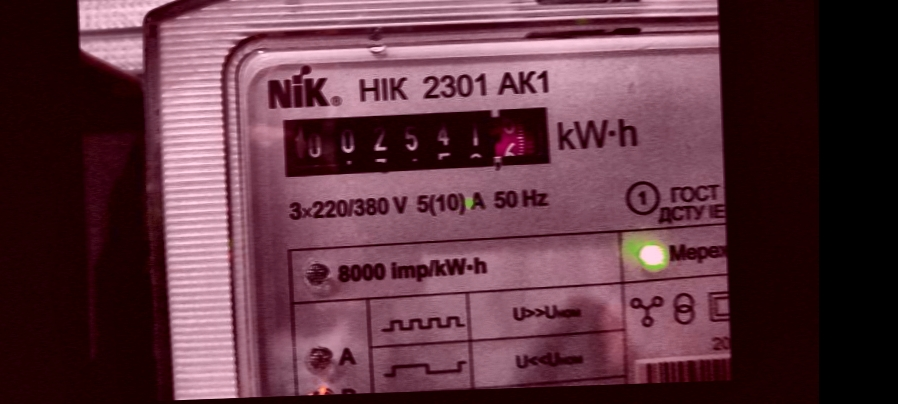0: (336, 124, 356, 157), (305, 131, 323, 161)
1: (463, 116, 481, 150)
2: (367, 122, 389, 156)
4: (432, 118, 451, 150)
5: (401, 123, 418, 155)
6: (499, 139, 516, 161)
screen: (267, 93, 570, 194)
